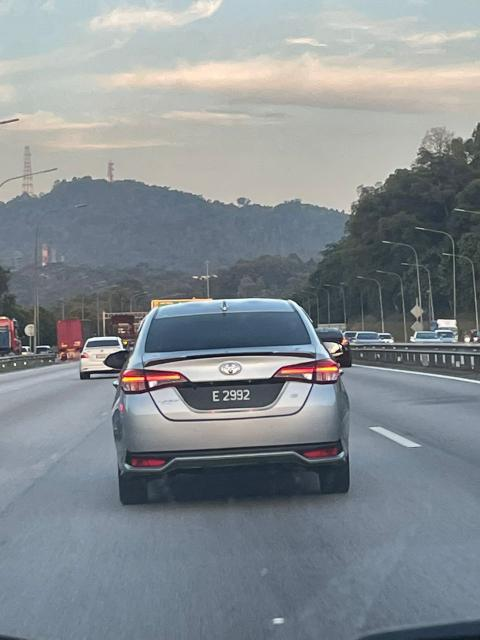License_Plate: (200, 387, 261, 408)
car: (100, 291, 358, 507)
